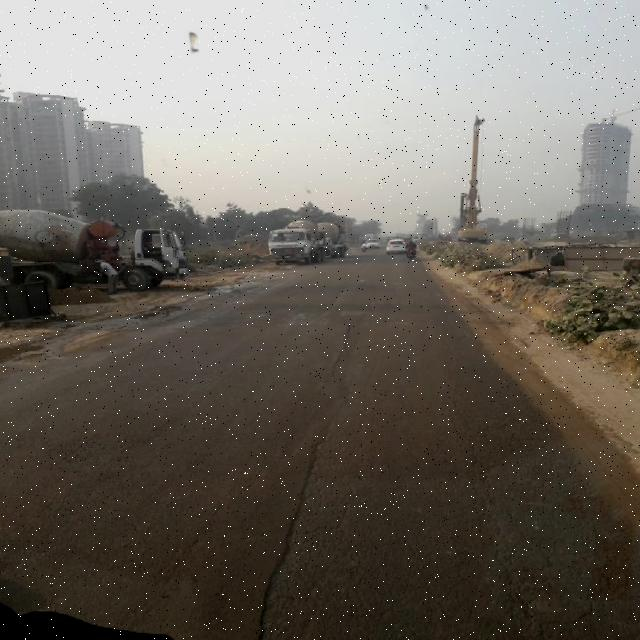D00: (242, 414, 340, 639), (330, 320, 358, 381)
D20: (382, 362, 628, 626)
